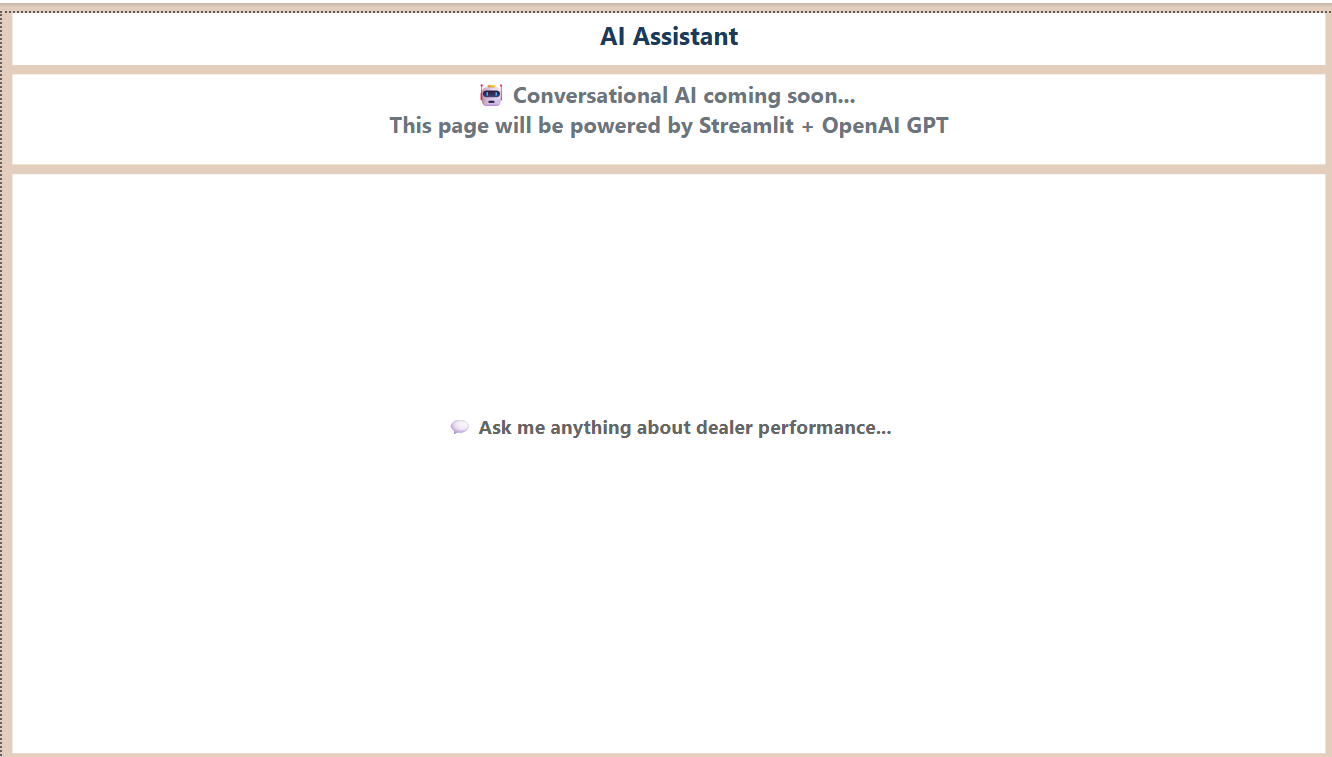

The page's visual inventory and layout, read from the dashboard file:
{"tool":"powerbi","page":{"name":"AI Assistant","canvas":[1280,720],"ordinal":4},"visuals":[{"type":"textbox","box":[9.6,0,1263.5,50],"z":0},{"type":"textbox","box":[9.6,58.7,1263.5,86.5],"z":1000},{"type":"textbox","box":[9.6,154.8,1263.5,556.7],"z":2000}]}

Visuals, with their boxes in screenshot pixels (x1, y1, x2, y2), scaled from the page's 1280x720 canvas onto the 1332x757 screenshot:
textbox: {"left": 10, "top": 0, "right": 1325, "bottom": 53}
textbox: {"left": 10, "top": 62, "right": 1325, "bottom": 153}
textbox: {"left": 10, "top": 163, "right": 1325, "bottom": 748}
